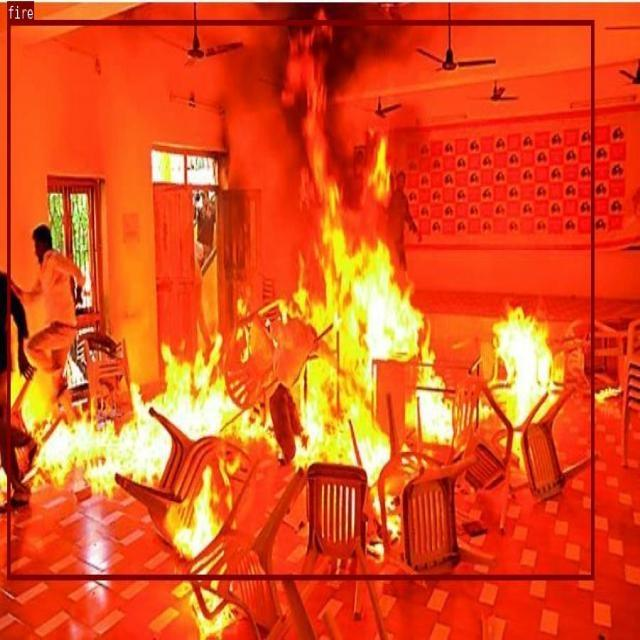fire: (7, 20, 594, 579)
